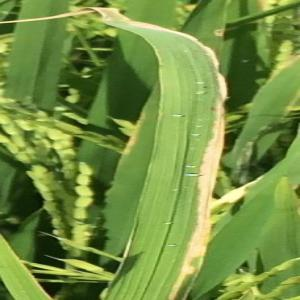Bacterial_Blight: (146, 68, 228, 297)
